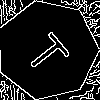T: (22, 25, 78, 78)
